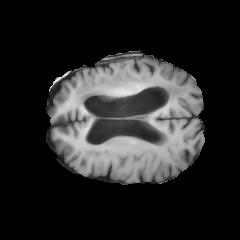glioma: (74, 60, 189, 106)
